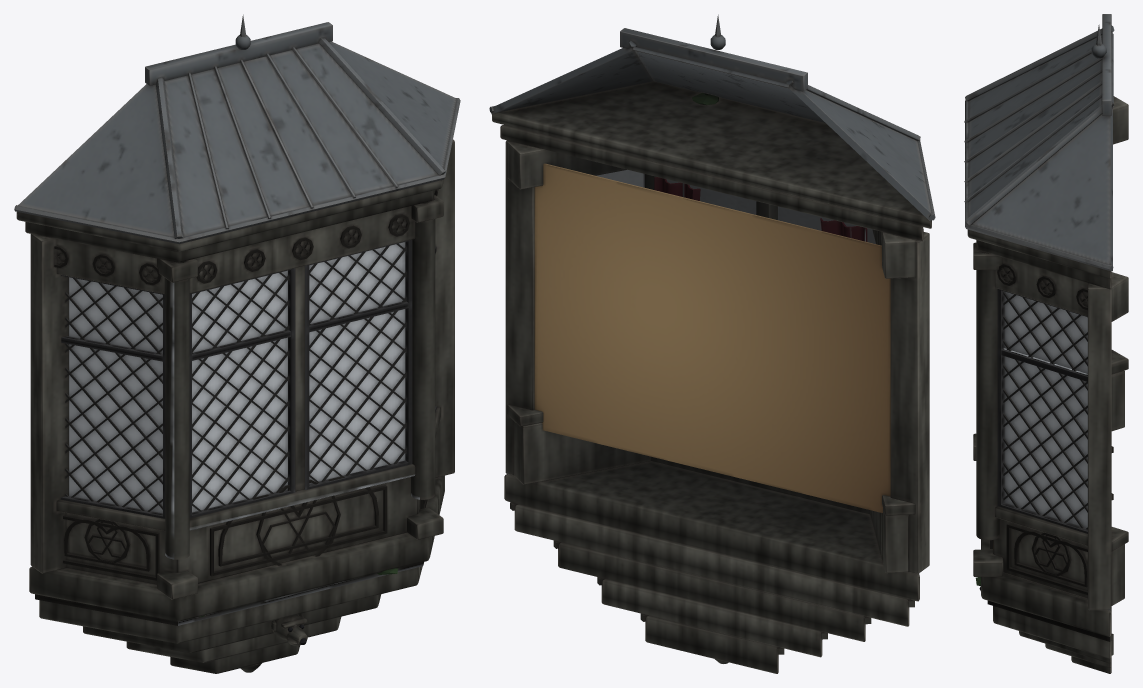
The model's file is BayWindow.fbx.
3 renders of one model, left to right at view 1: azimuth 30°, elevation 25°; view 2: azimuth 150°, elevation 25°; view 3: azimuth 270°, elevation 25°, orthographic. The views are drawn at different scales.
Parts seen in each view (by area): view 1: BayWindow_Main, BayWindow_Glass; view 2: BayWindow_Main, BayWindow_Glass; view 3: BayWindow_Main, BayWindow_Glass.
Part boxes in pixels (left/top/right/bottom): BayWindow_Main: left=14, top=14, right=460, bottom=673; BayWindow_Glass: left=69, top=242, right=405, bottom=513; BayWindow_Main: left=489, top=14, right=935, bottom=673; BayWindow_Glass: left=596, top=169, right=875, bottom=243; BayWindow_Main: left=964, top=14, right=1128, bottom=673; BayWindow_Glass: left=1004, top=291, right=1087, bottom=527.
Bounding box in the file's own units: 631 × 883 × 208.
